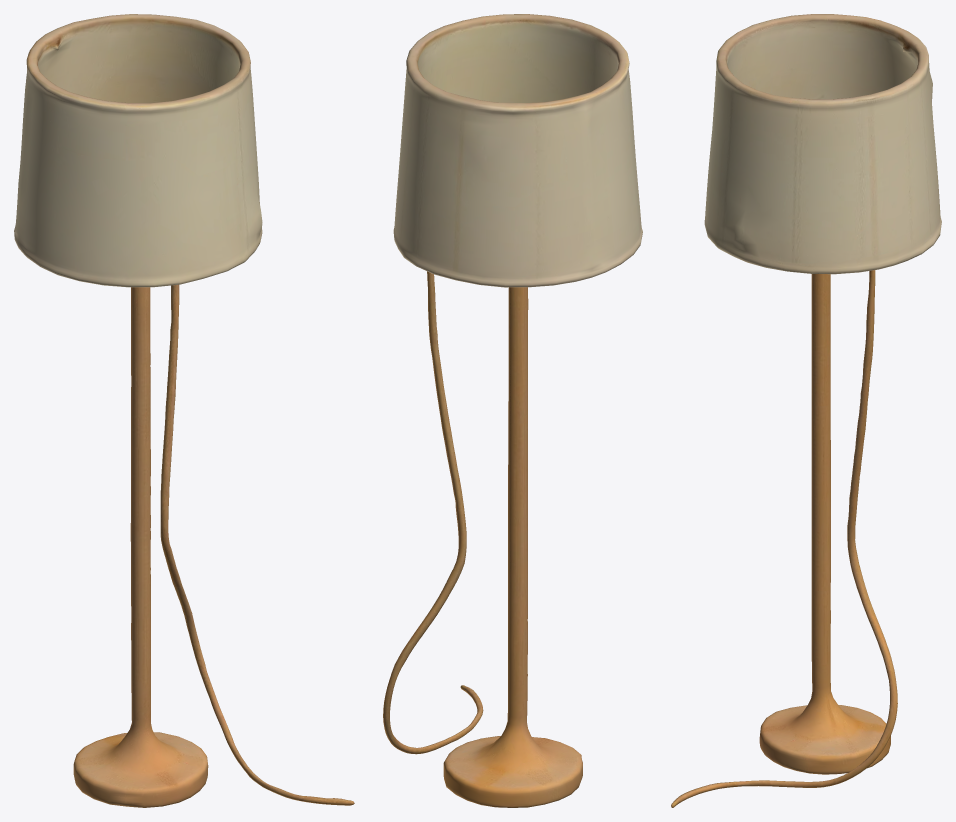
The model's file is floor-lamp.glb.
The picture shows the model from 3 angles, left to right: view 1: azimuth 30°, elevation 25°; view 2: azimuth 150°, elevation 25°; view 3: azimuth 270°, elevation 25°; orthographic projection. The views are drawn at different scales.
Size of the model in its own units: 0.7093 by 2 by 0.7126.
Materials: 1 (1 with a texture image).
